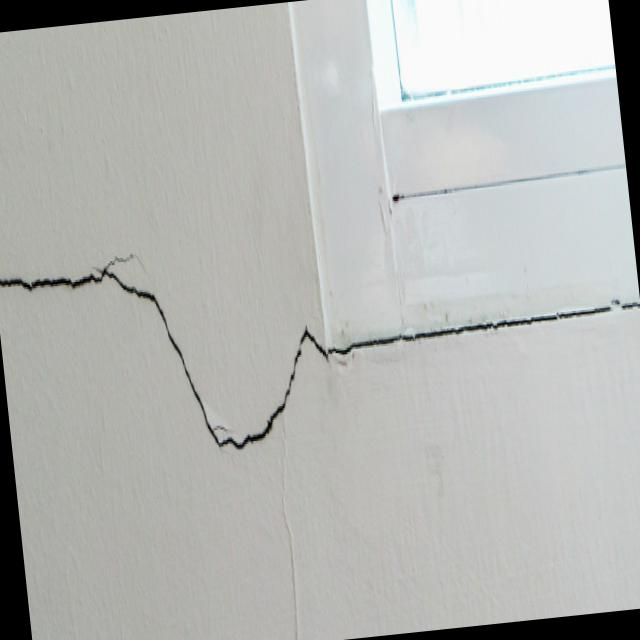crack: (0, 228, 337, 476)
